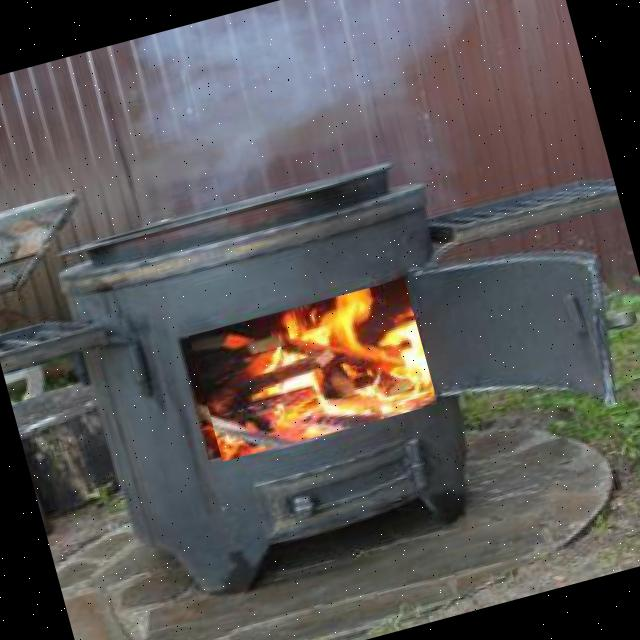fire: (188, 278, 438, 461)
